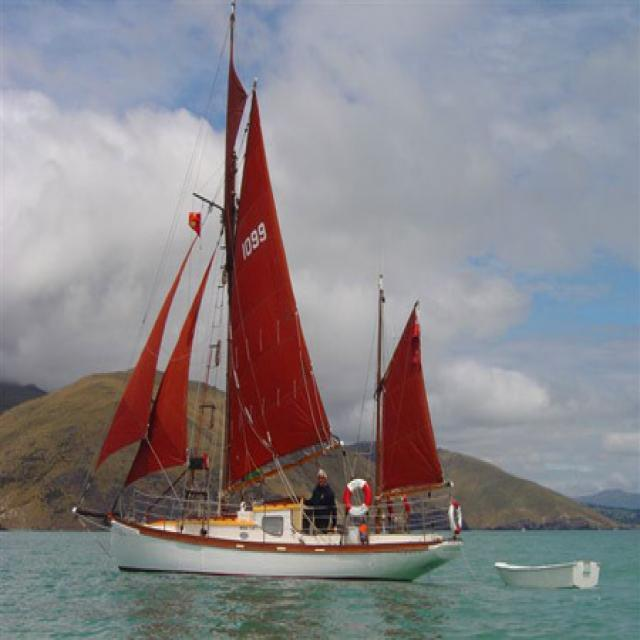Ship: (75, 8, 461, 579)
